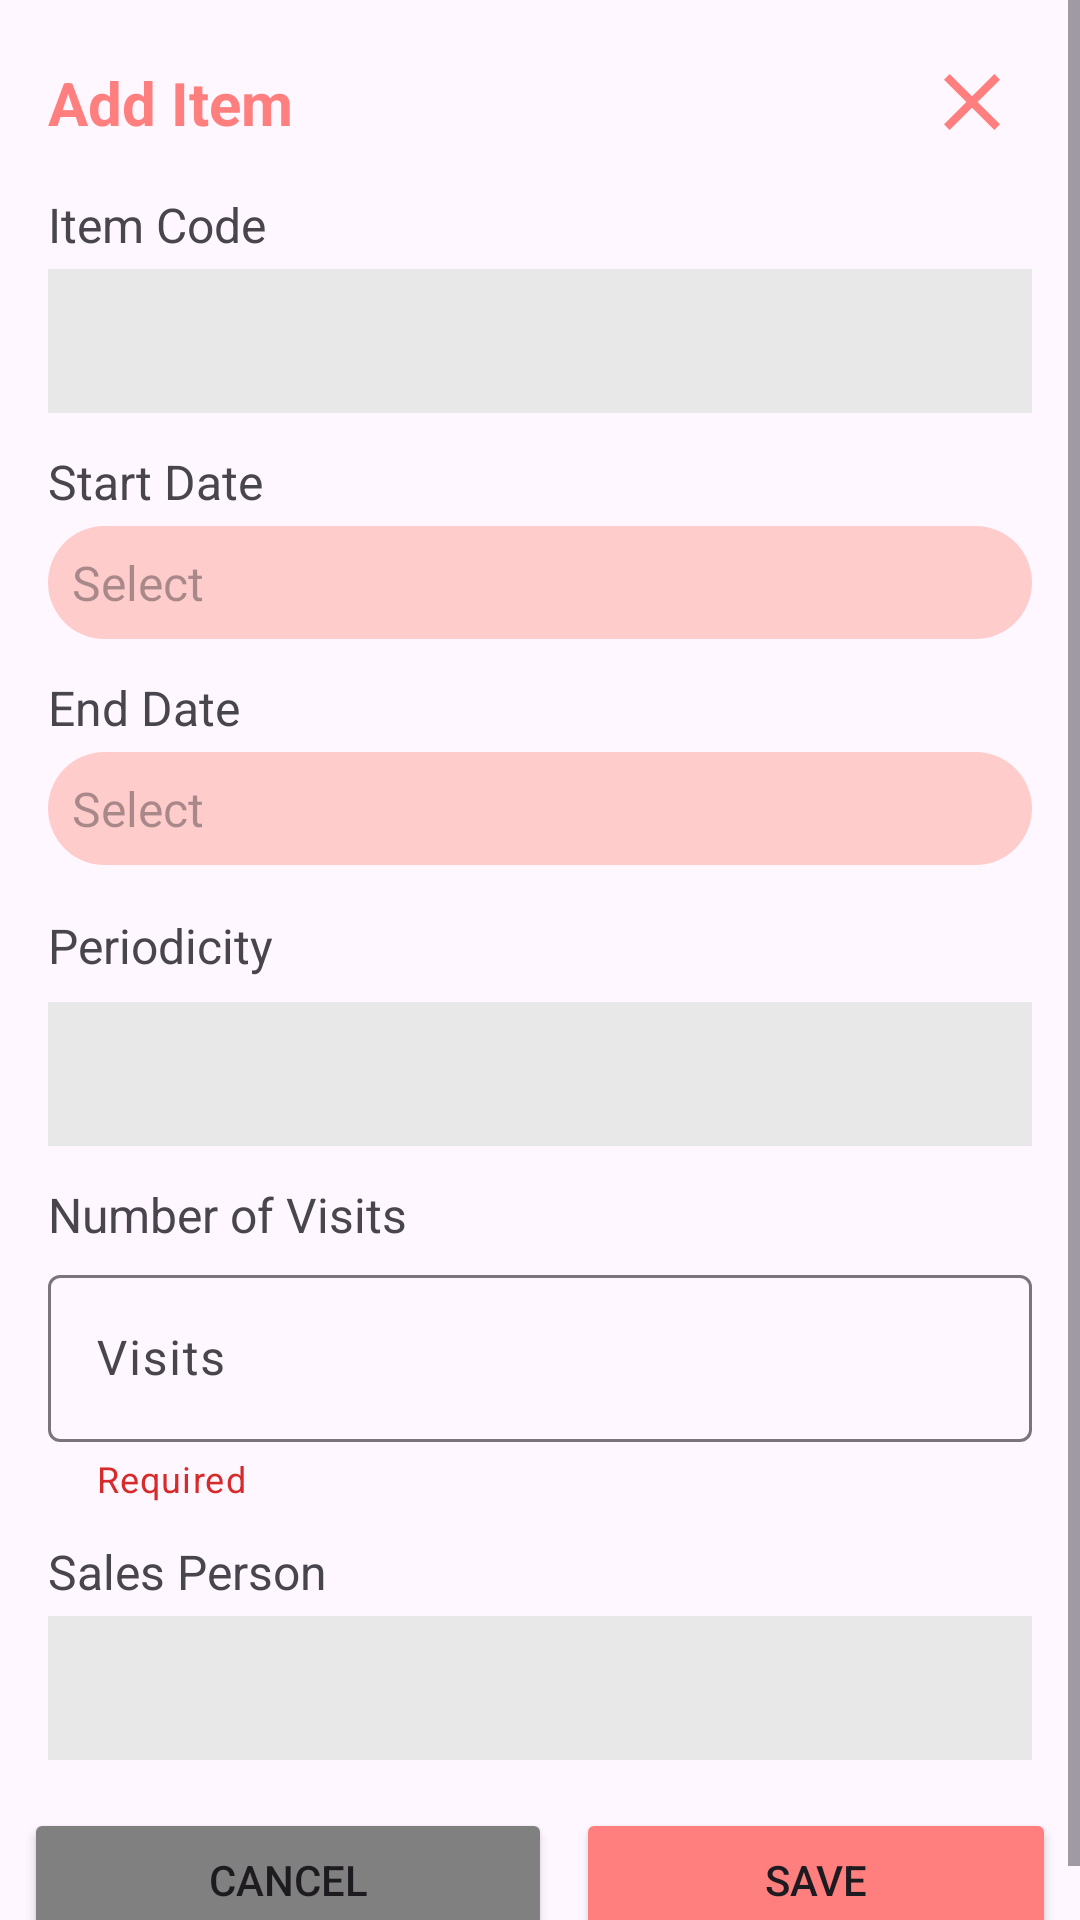

Icon bounding boxes for this 1080*1920 phone screenshot, format (x1, y1, x2, y2):
clear: (944, 74, 1000, 130)
